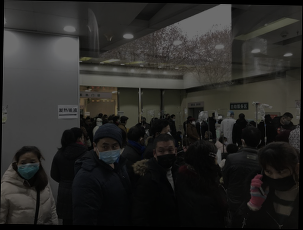with_mask: (261, 166, 296, 193), (97, 141, 122, 166), (16, 157, 41, 181), (156, 143, 176, 170), (282, 117, 292, 127), (191, 119, 196, 127), (224, 139, 229, 146), (117, 118, 122, 124), (172, 117, 177, 122)
without_mask: (85, 119, 91, 126)
